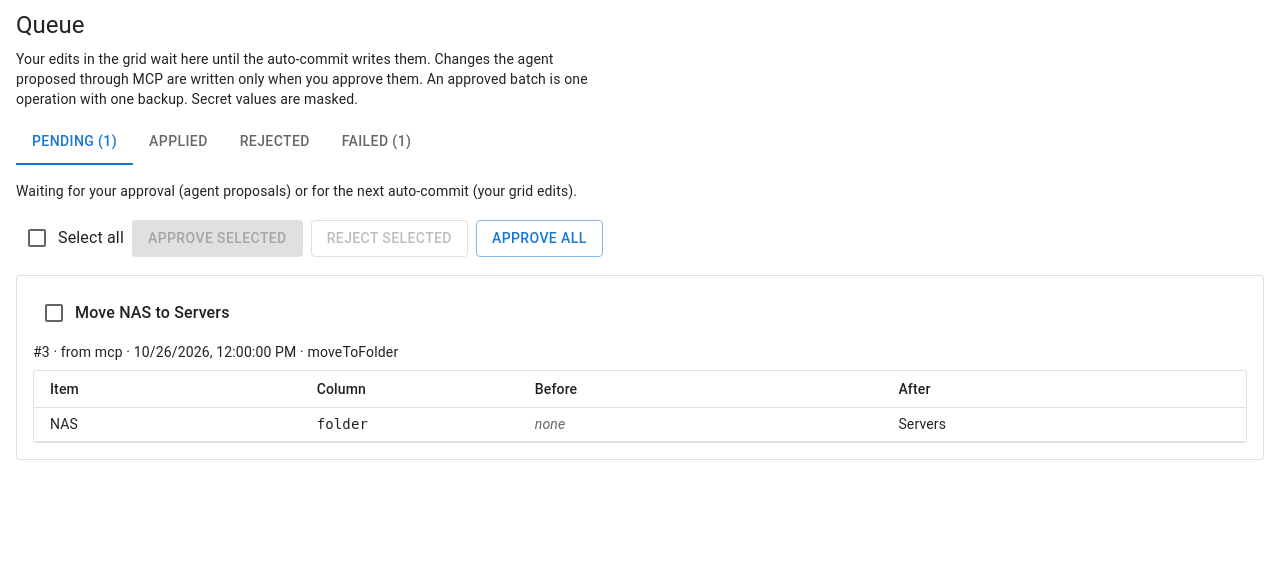
it: failed entries show their reason after approval and in the failed tab
The image size is (1280, 561).
Click the button "Approve all" at (539, 238), box [476, 220, 603, 257]
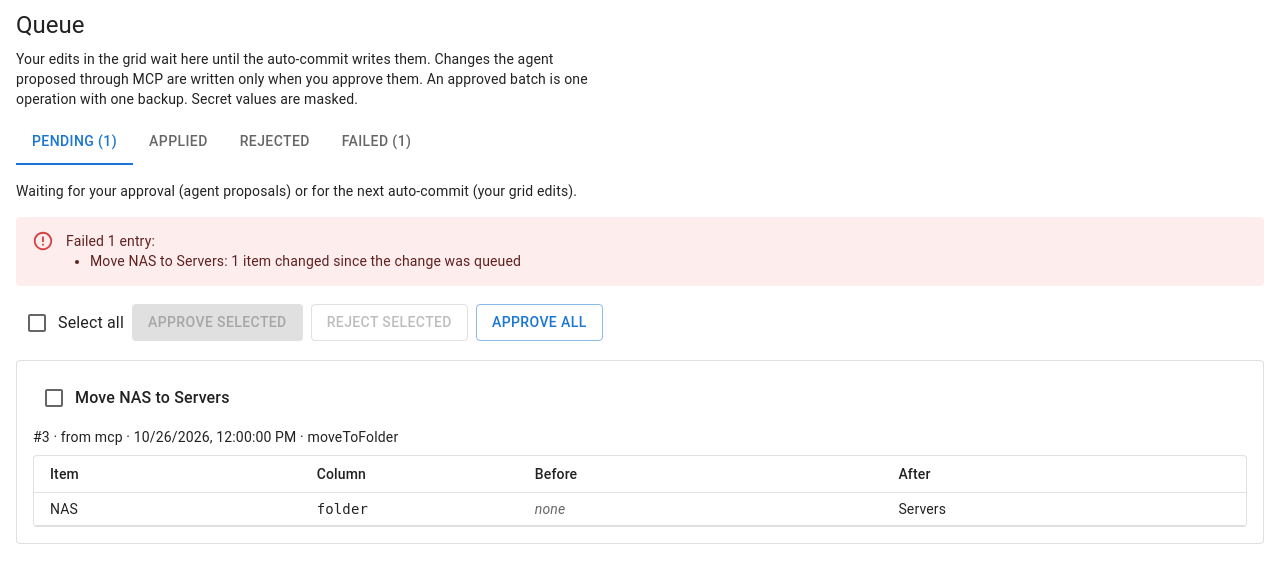
Now the element with test id "approve-result" shows "Move NAS to Servers: 1 item changed since the change was queued", box [16, 218, 1264, 286]
Click the tab "Failed (1)" at (377, 142), box [326, 118, 427, 166]
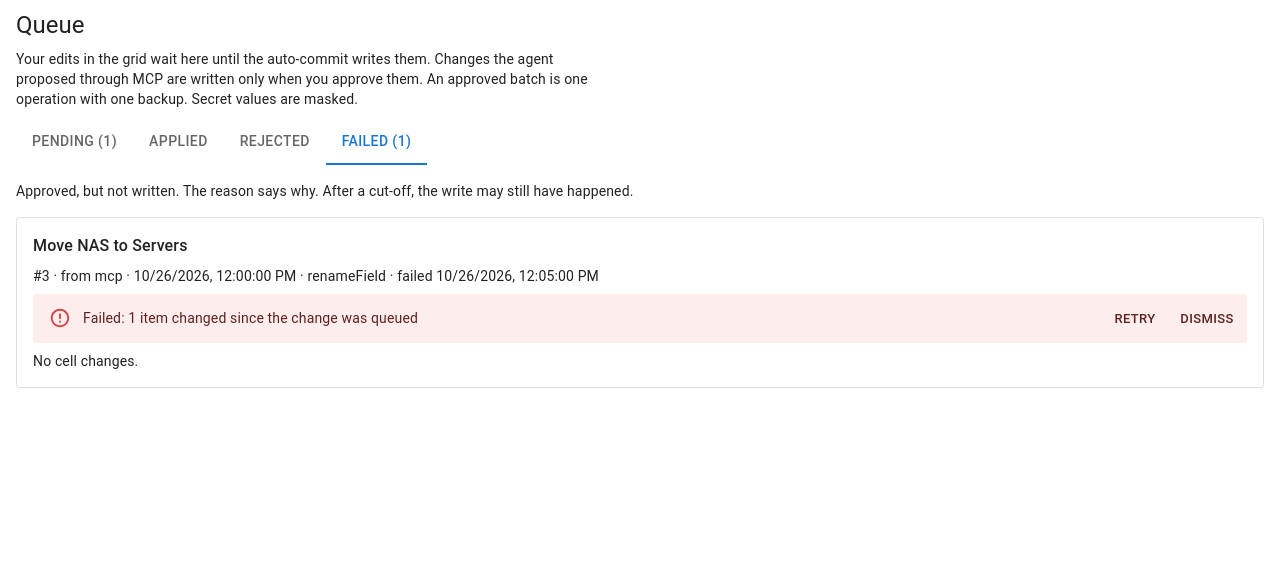
Now the element with test id "queue-entry-3" shows "Failed: 1 item changed since the change was queued", box [16, 218, 1264, 388]
